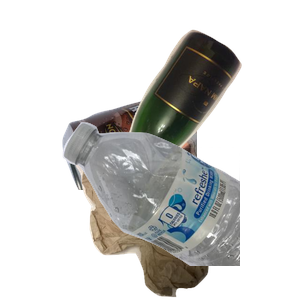glass: (87, 27, 300, 207)
metal: (60, 79, 300, 259)
plastic: (60, 120, 300, 300)
trash: (73, 147, 300, 300)
